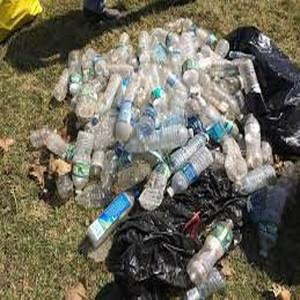Plastic: (185, 218, 236, 283), (171, 148, 213, 200), (137, 159, 171, 212), (132, 124, 194, 152), (72, 128, 92, 192), (149, 64, 167, 119)
